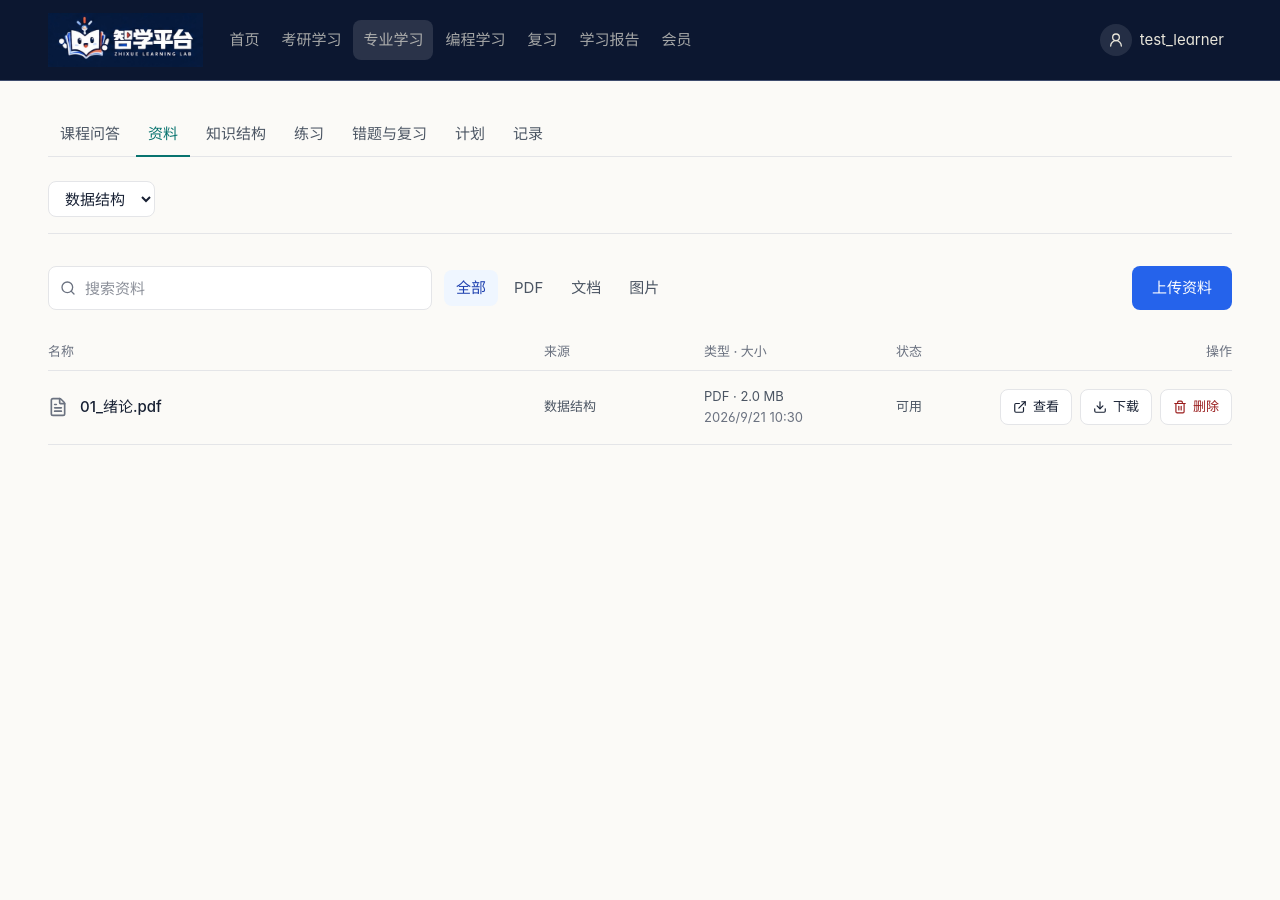
Test: CourseMaterialsPage › removes the row once the deletion is confirmed
expect the text "01_绪论.pdf" is shown: met, box x1=80 y1=396 x2=162 y2=418
Click the button "删除" at (1196, 407), box x1=1160 y1=389 x2=1232 y2=425
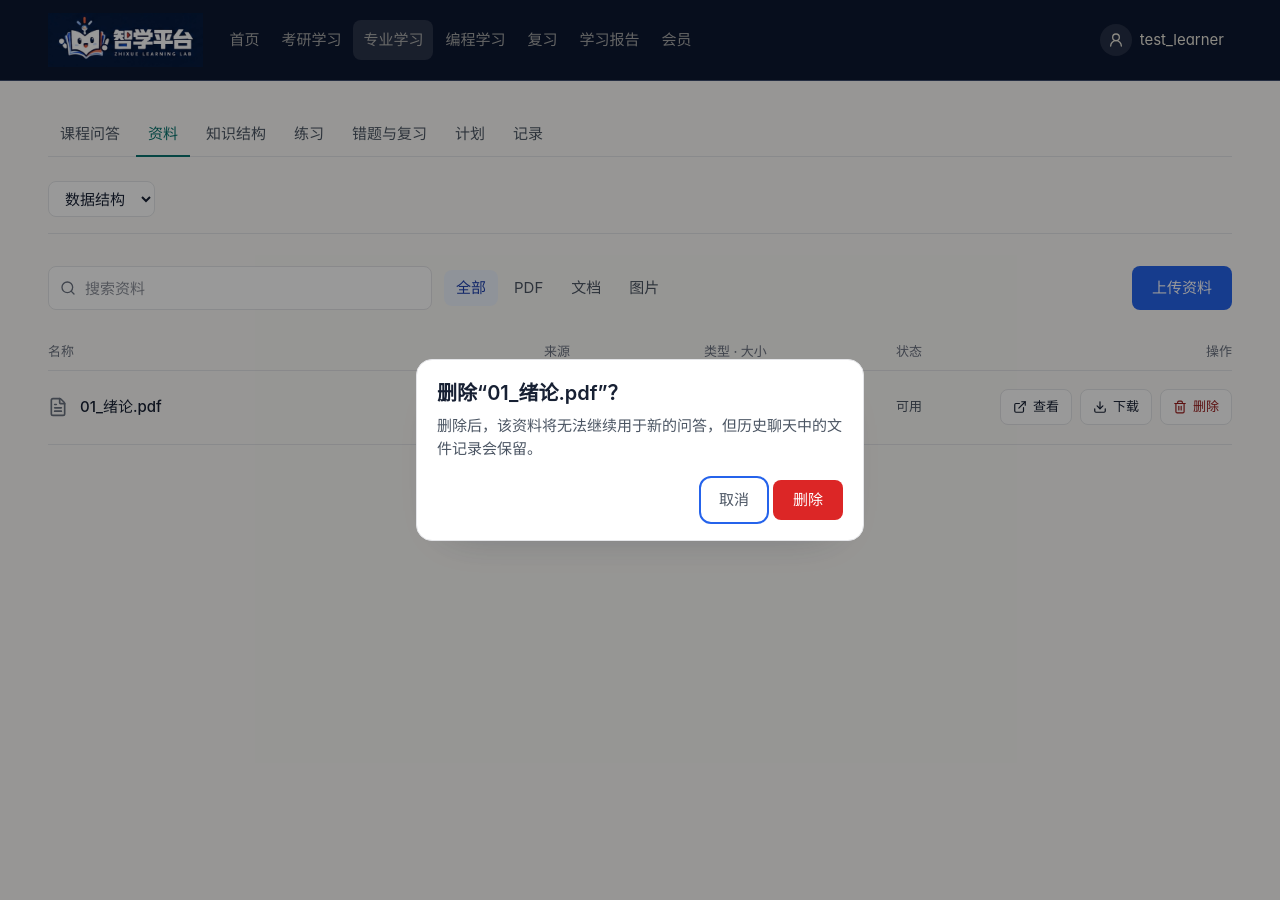
Click the button "删除" at (808, 500), box x1=773 y1=480 x2=843 y2=520
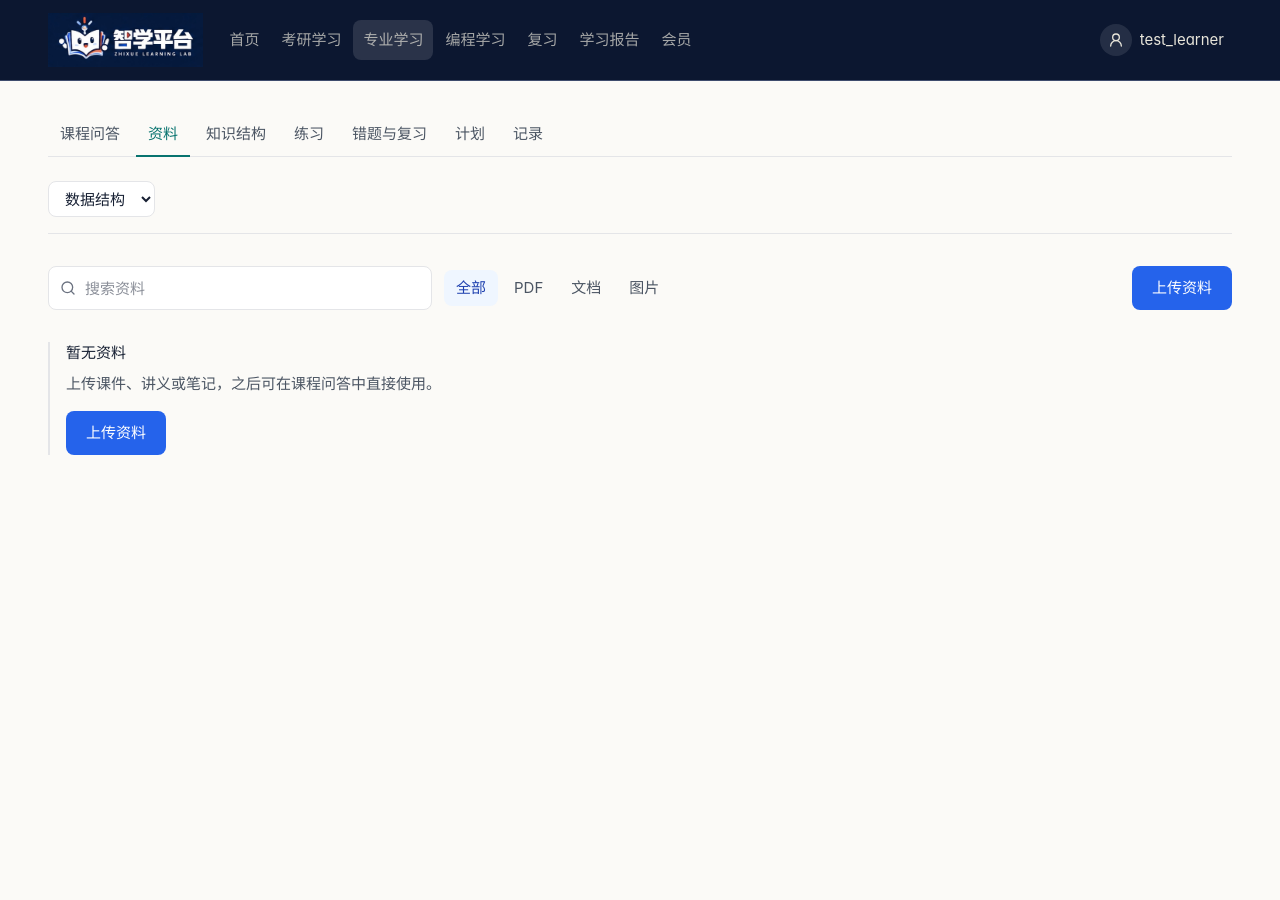
expect the dialog is gone: met
expect the text "01_绪论.pdf" is gone: met
